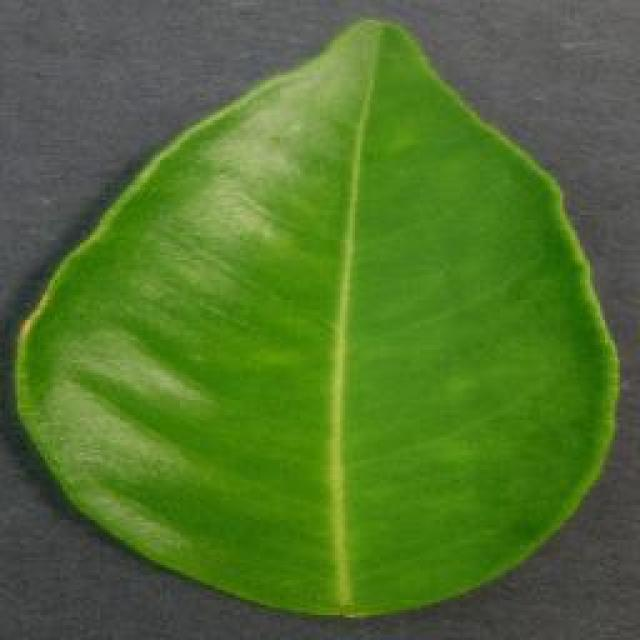Orange_Haunglongbing_Citrus_greening: (118, 122, 570, 562)
